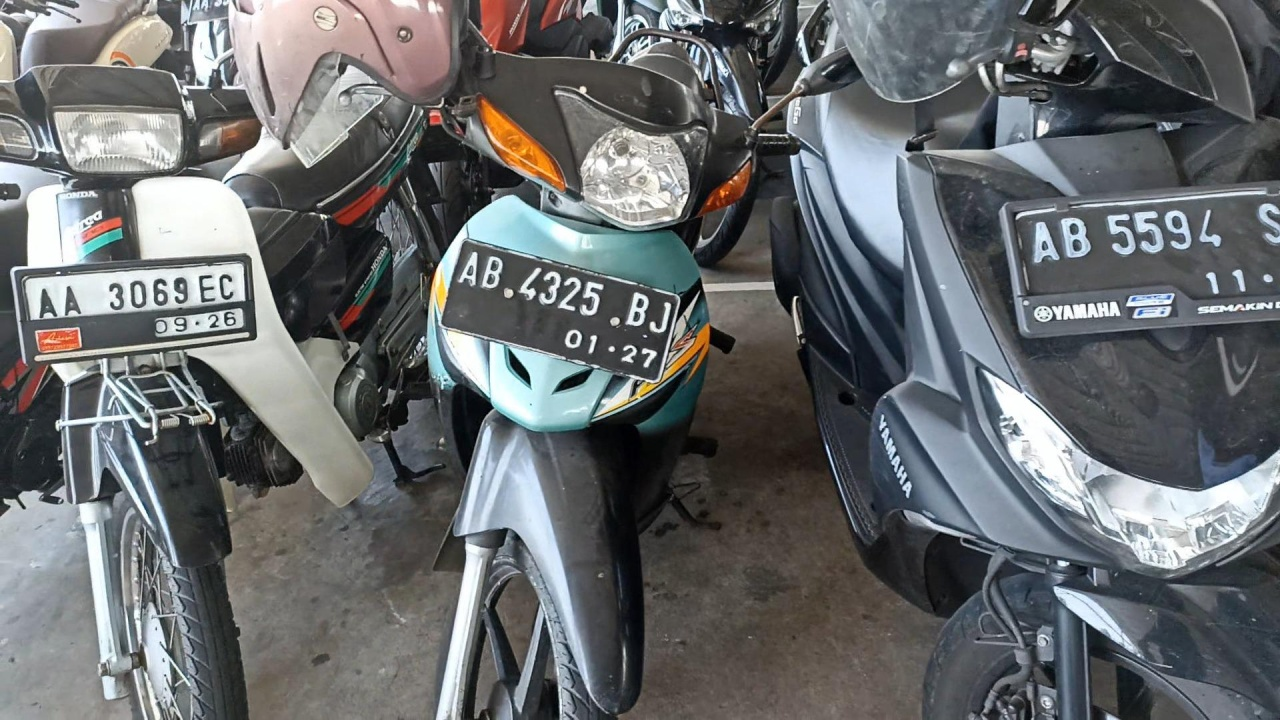plate: (438, 238, 681, 384), (17, 260, 252, 364)
